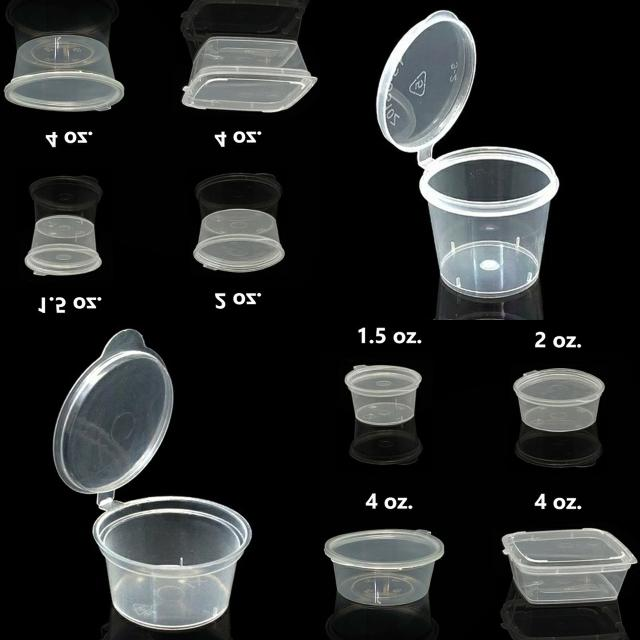Single-Use-Plastic: (92, 496, 251, 630), (420, 146, 559, 298), (54, 329, 172, 493), (376, 10, 476, 166), (182, 36, 316, 112), (502, 529, 636, 604), (325, 529, 444, 606), (5, 35, 124, 111), (194, 209, 285, 272), (514, 369, 604, 432), (25, 215, 101, 275), (345, 366, 421, 426)
